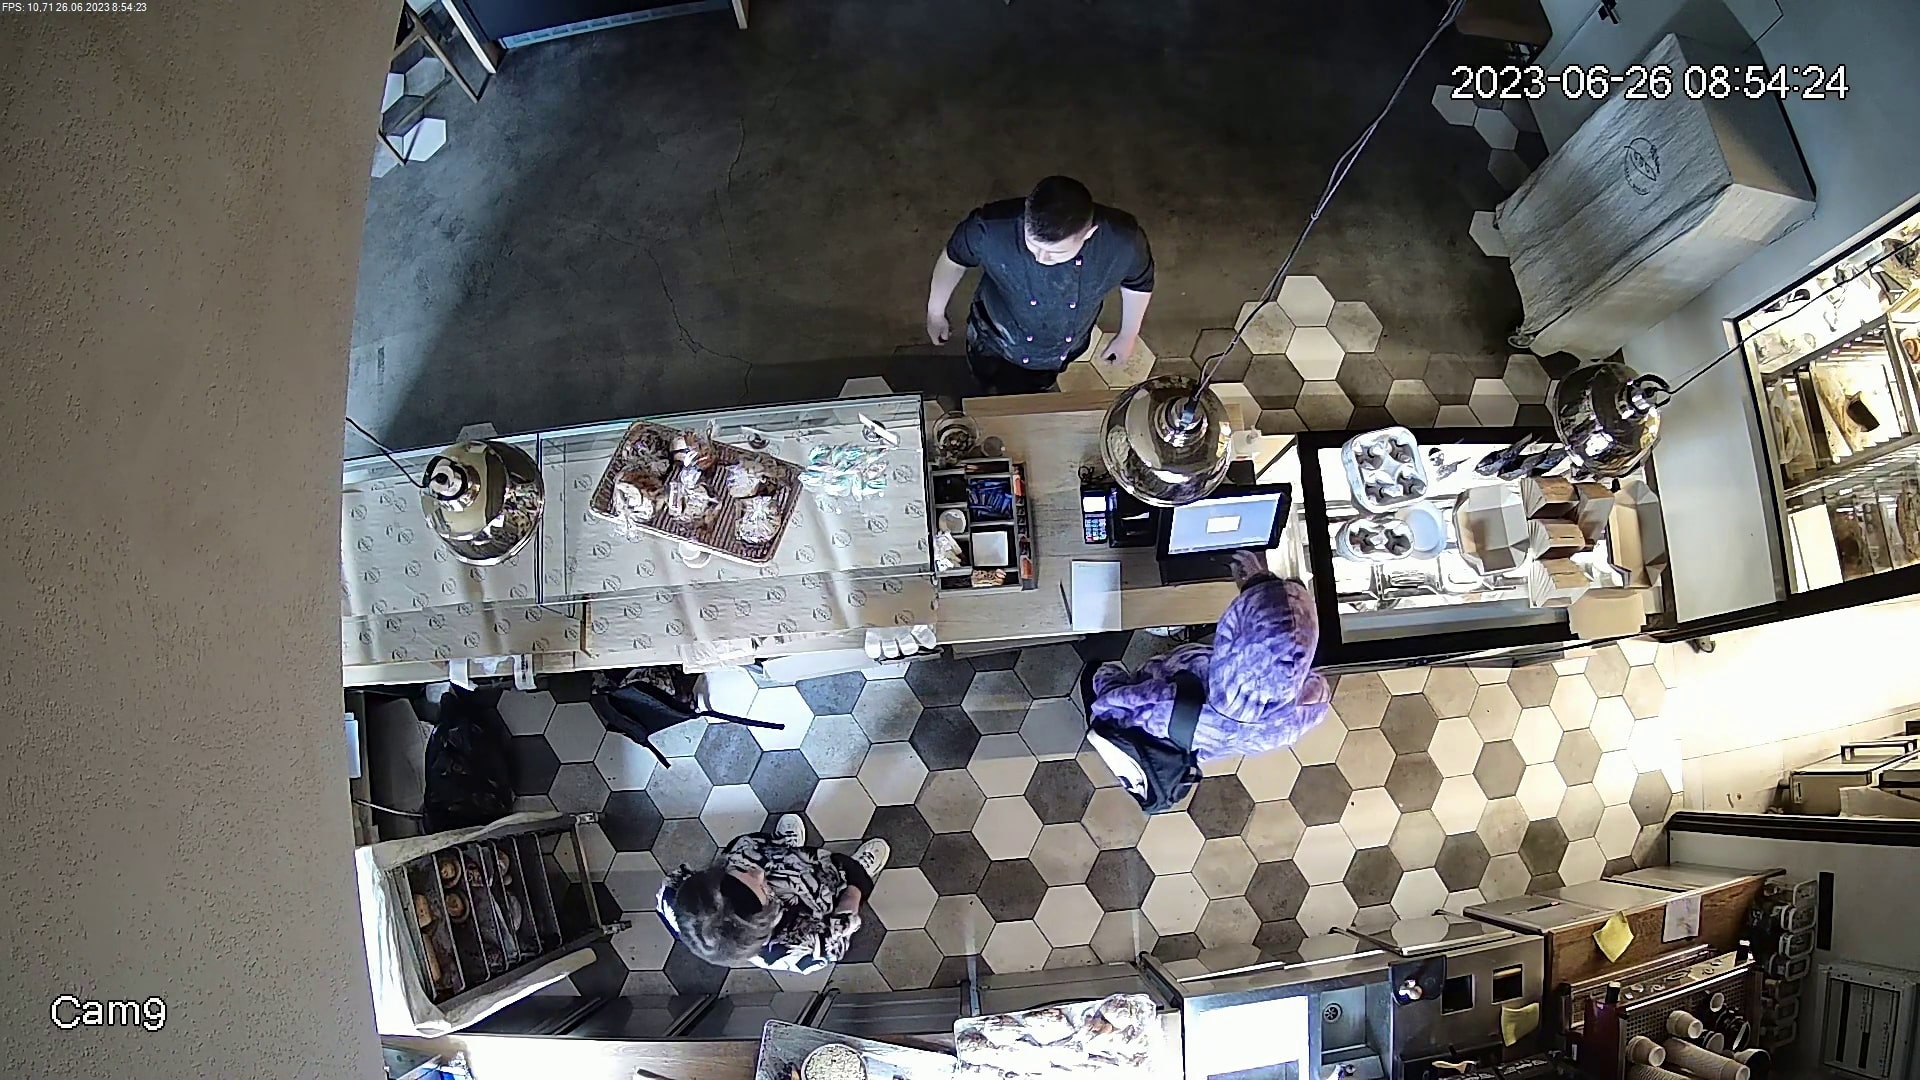barcounter: (349, 432, 1661, 680)
person: (1076, 560, 1350, 795), (921, 178, 1156, 384), (652, 807, 916, 980)
